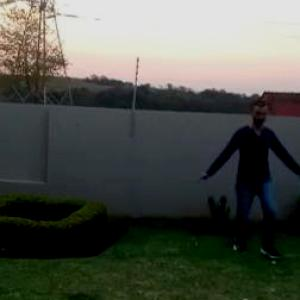land: (205, 116, 299, 260)
